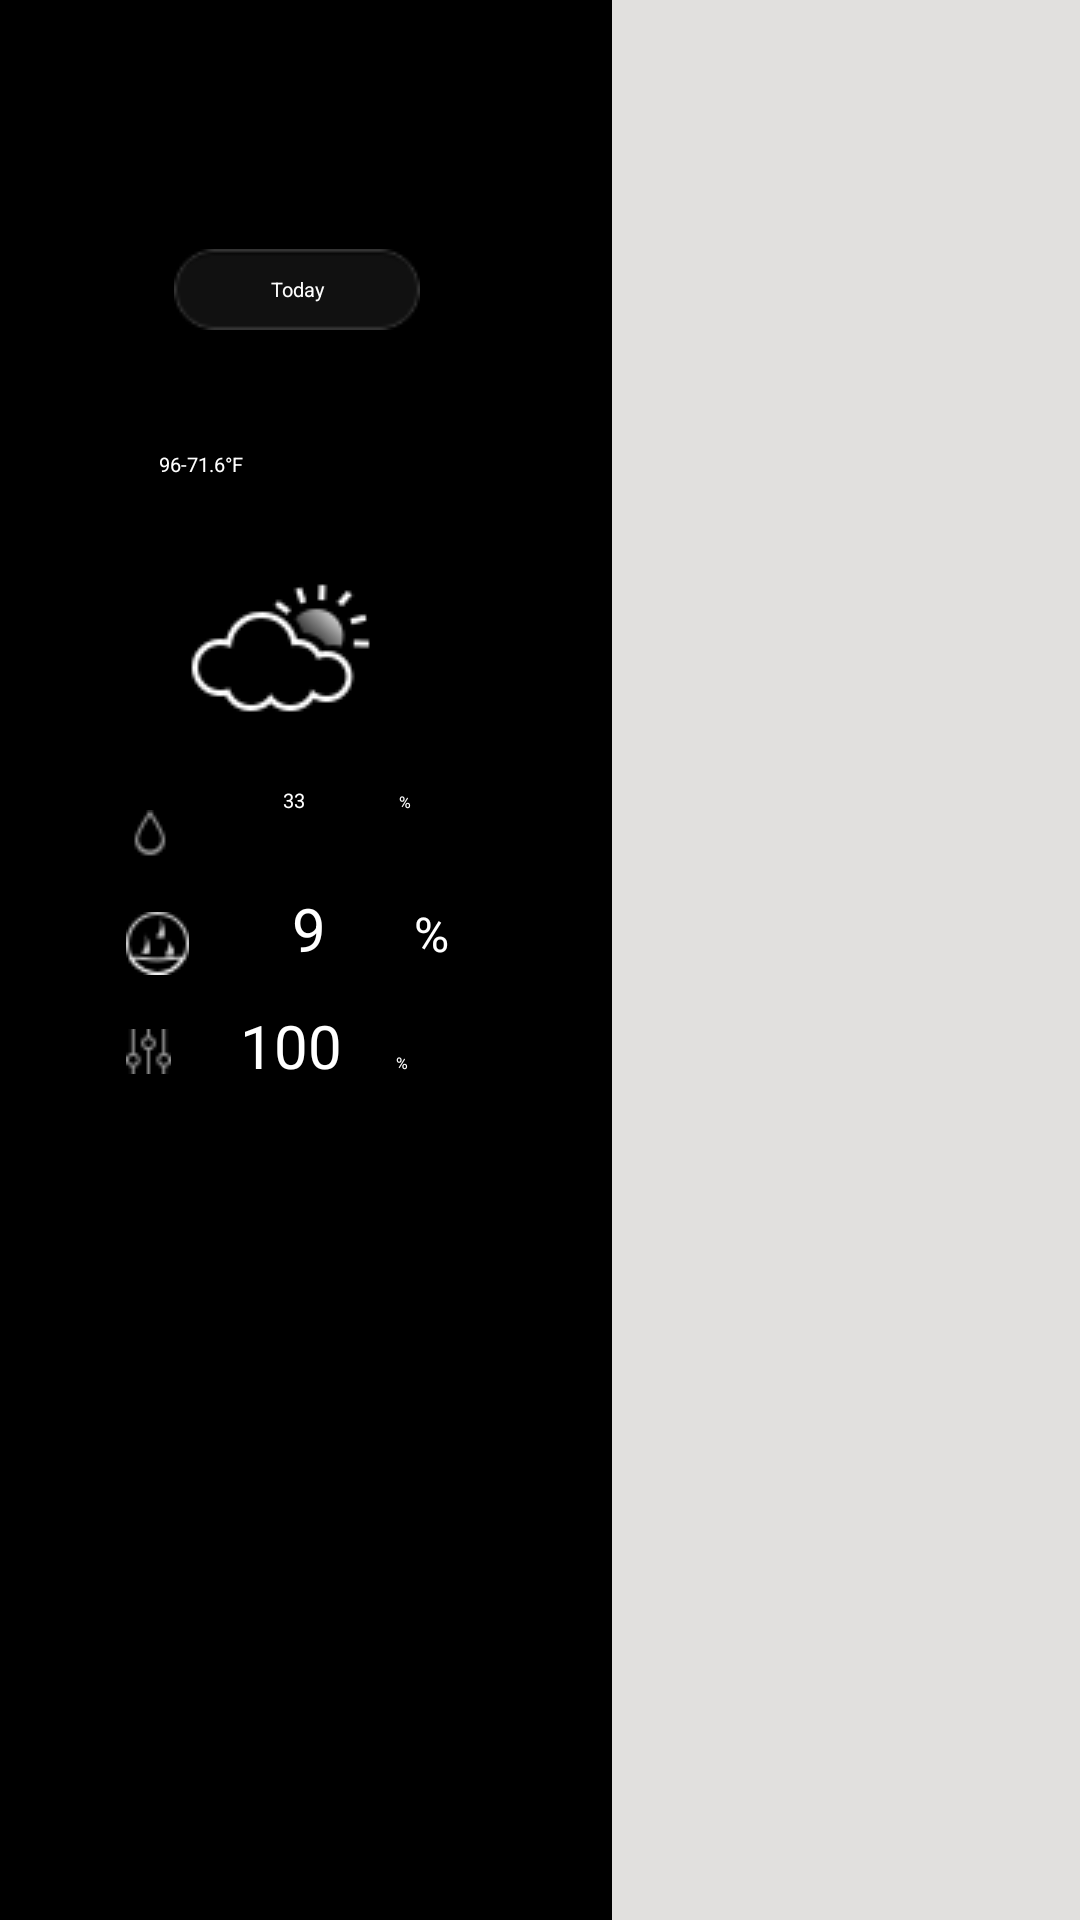

Screen size 1080x1920. Icon name, then its center in pixels as (x,y):
adjust: (148,1051)
weather scatteredclouds day: (280,648)
